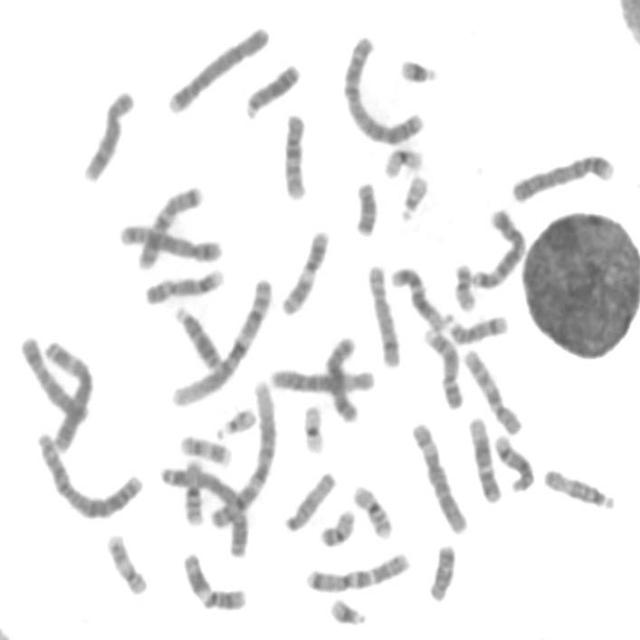A1: (166, 270, 274, 410), (204, 370, 278, 532)
A2: (31, 425, 145, 521), (338, 29, 426, 146)
A3: (156, 457, 252, 560), (40, 335, 94, 453)
B4: (161, 19, 272, 115), (506, 146, 617, 205)
B5: (466, 202, 529, 290), (114, 217, 225, 263)
C10: (458, 342, 524, 438), (277, 104, 310, 202)
C11: (276, 222, 332, 318), (176, 545, 249, 613)
C12: (387, 259, 446, 332), (463, 410, 503, 504)
C6: (406, 414, 470, 536), (264, 360, 378, 395)
C7: (130, 178, 206, 272), (300, 545, 412, 594)
C8: (78, 84, 137, 184), (361, 256, 403, 370)
C9: (418, 320, 466, 410), (140, 262, 226, 307)
D13: (239, 55, 301, 120), (169, 299, 224, 372)
D14: (489, 428, 536, 494), (439, 306, 511, 344)
D15: (278, 464, 338, 534), (538, 461, 618, 512)
E16: (348, 478, 396, 541), (180, 451, 208, 528)
E17: (102, 526, 150, 597), (174, 428, 233, 468)
E18: (423, 536, 458, 604), (349, 173, 380, 238)
F19: (378, 140, 426, 179), (297, 397, 328, 455)
F20: (314, 502, 358, 548), (449, 256, 478, 312)
G21: (394, 50, 441, 86), (324, 591, 369, 627)
G22: (394, 167, 431, 222), (211, 401, 258, 439)
X: (14, 329, 90, 425), (321, 329, 361, 424)
